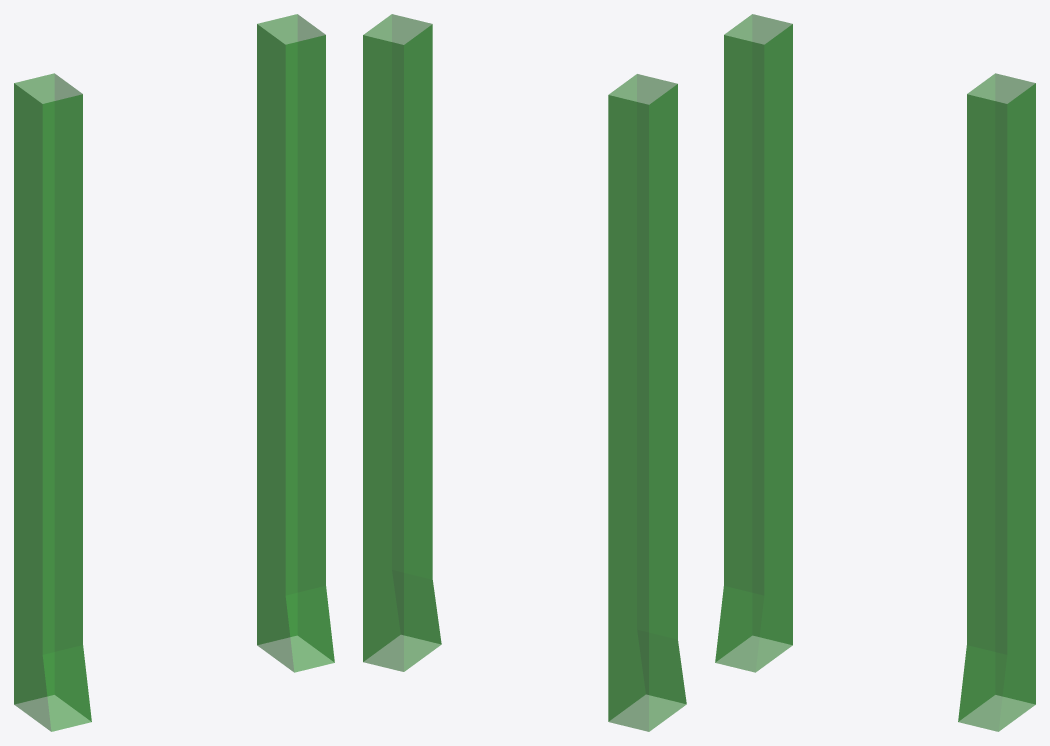
Rendered from D10_pillar01.obj.
3 views of the same model, side by side, from view 1: azimuth 30°, elevation 25°; view 2: azimuth 150°, elevation 25°; view 3: azimuth 330°, elevation 25° (orthographic).
Bounding box in the file's own units: 10.5 × 22 × 2.4.
